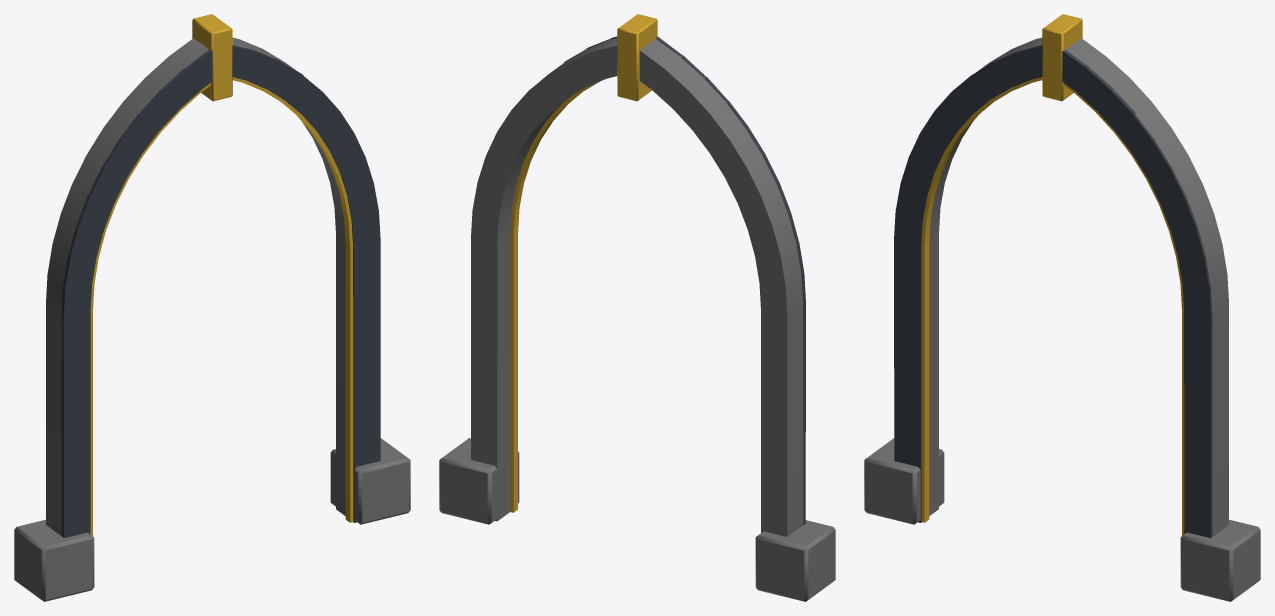
Rendered from doorframe_gothic_arch.glb.
3 views of the same model, side by side, from view 1: azimuth 30°, elevation 25°; view 2: azimuth 150°, elevation 25°; view 3: azimuth 330°, elevation 25° (orthographic).
Parts seen in each view (by area): view 1: doorframe_gothic_arch; view 2: doorframe_gothic_arch; view 3: doorframe_gothic_arch.
Part boxes in pixels (box(x1,y1,x2,y2)): doorframe_gothic_arch: box(14, 14, 410, 601); doorframe_gothic_arch: box(439, 14, 835, 601); doorframe_gothic_arch: box(864, 14, 1260, 601).
Size of the model in its own units: 2.8 by 3.8 by 0.4.
